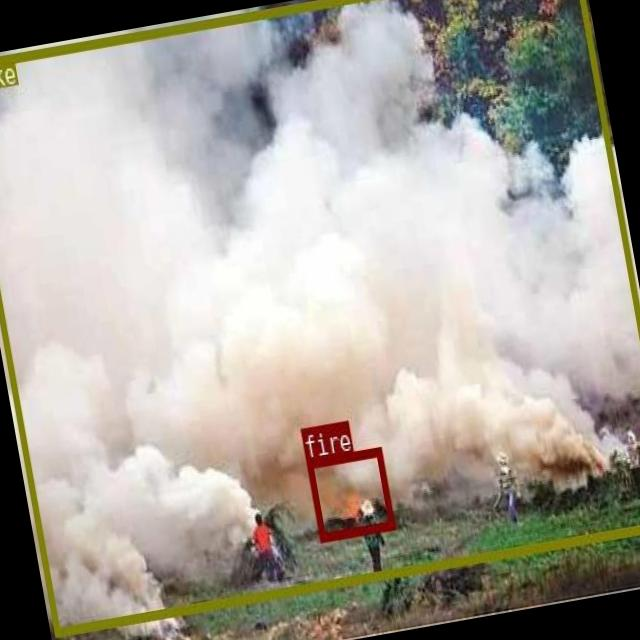fire: (305, 446, 393, 542)
smoke: (0, 0, 640, 634)
